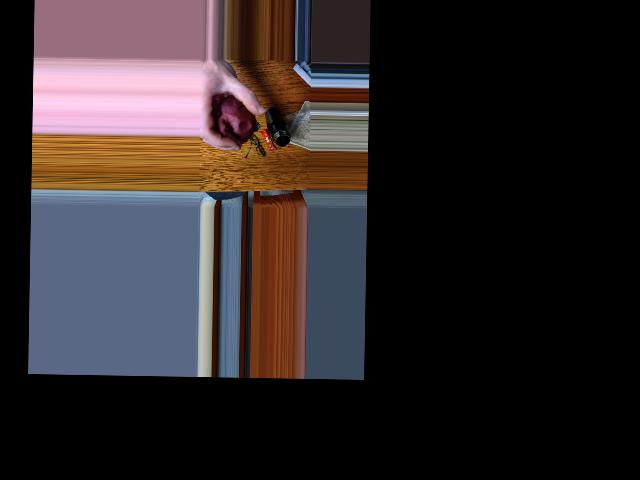onion: (219, 104, 250, 142)
